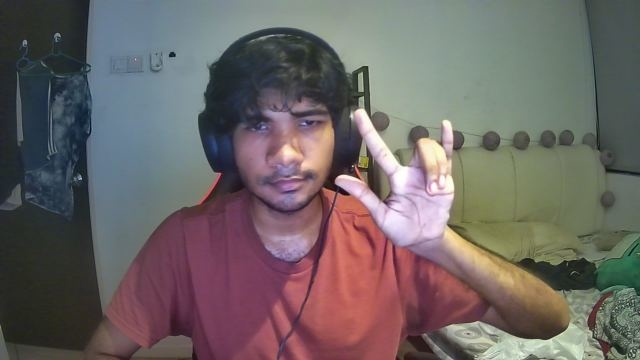I Love You: (332, 102, 458, 250)
